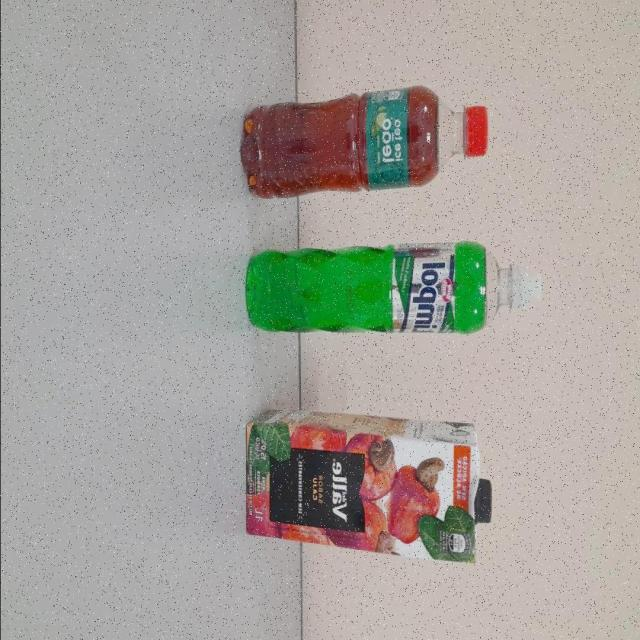Cleaner: (242, 240, 543, 336)
IceTea: (238, 86, 487, 200)
